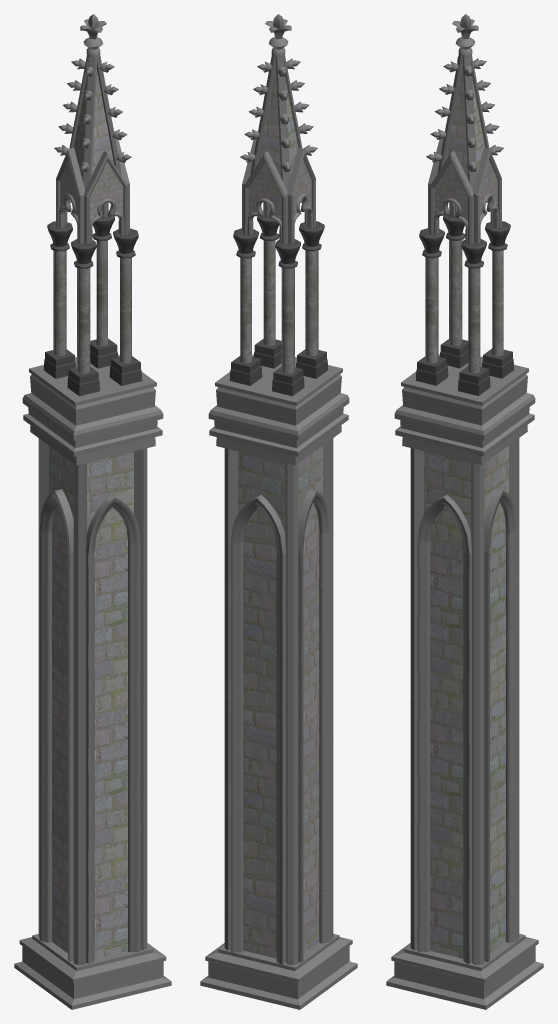
The model's file is SM_spire_thin_02.fbx.
3 views of the same model, side by side, from view 1: azimuth 30°, elevation 25°; view 2: azimuth 150°, elevation 25°; view 3: azimuth 330°, elevation 25° (orthographic).
Visible parts, largest first — view 1: DarkFantasyObject55; view 2: DarkFantasyObject55; view 3: DarkFantasyObject55.
Part boxes in pixels (x1=…): DarkFantasyObject55: x1=14, y1=14, x2=171, y2=1009; DarkFantasyObject55: x1=200, y1=14, x2=357, y2=1009; DarkFantasyObject55: x1=386, y1=14, x2=543, y2=1009.
Bounding box in the file's own units: 61.61 × 568 × 61.61.
